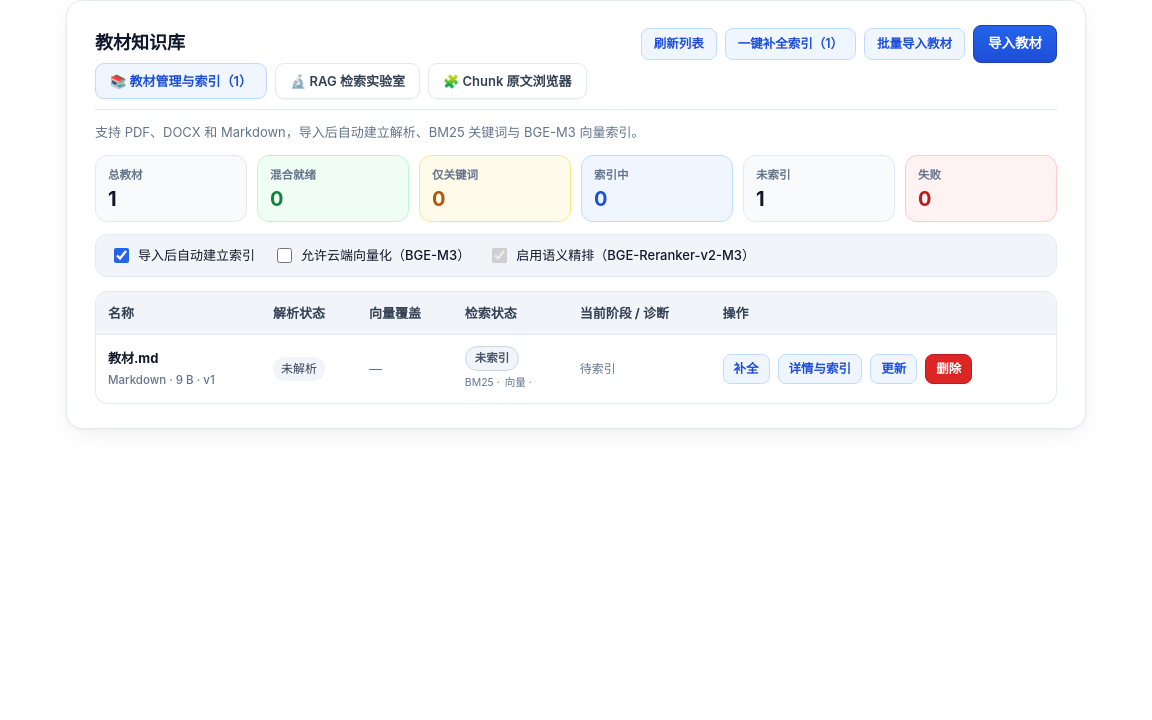
preserves rows on list and delete failures, and requires confirmation before deleting
Expected: the column heading "教材.md Markdown · 9 B · v1" is shown, [96,335,261,403]
Click the button "刷新列表".
click(679, 44)  # box [641,28,717,60]
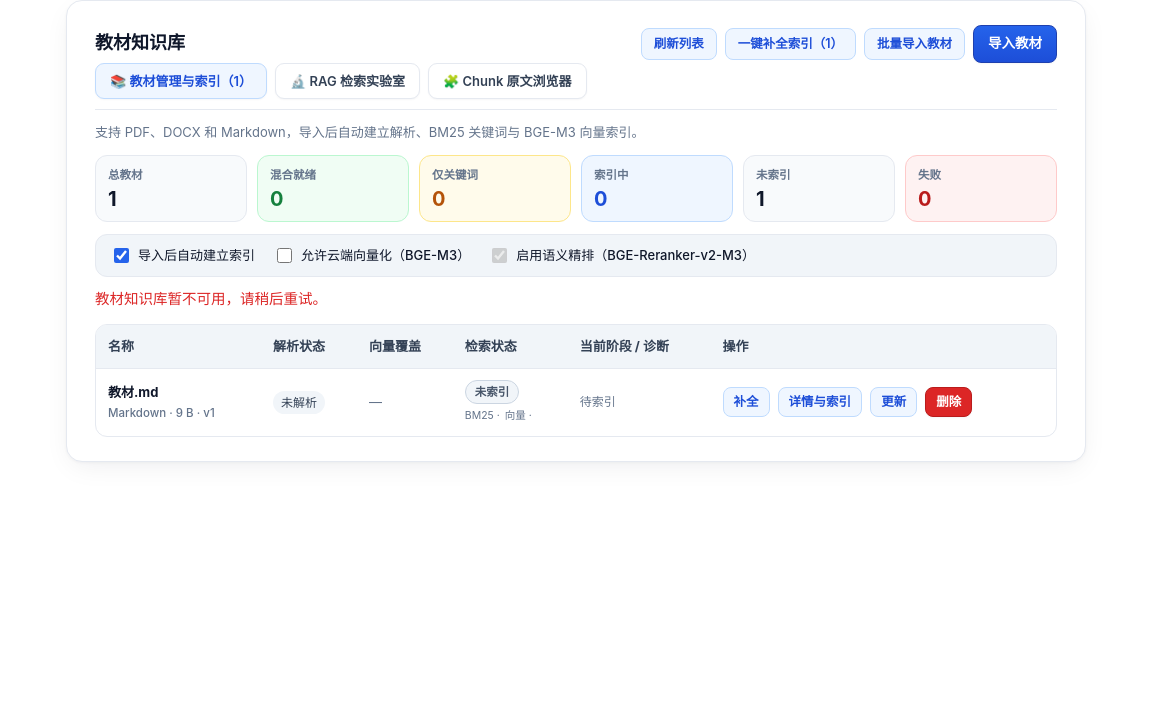
Expected: the column heading "教材.md Markdown · 9 B · v1" is shown, [96,368,261,436]
Now the message shows "教材知识库暂不可用", box [95,290,327,307]
Click the button with aria-label "删除 教材.md".
click(949, 402)  # box [925,387,972,417]
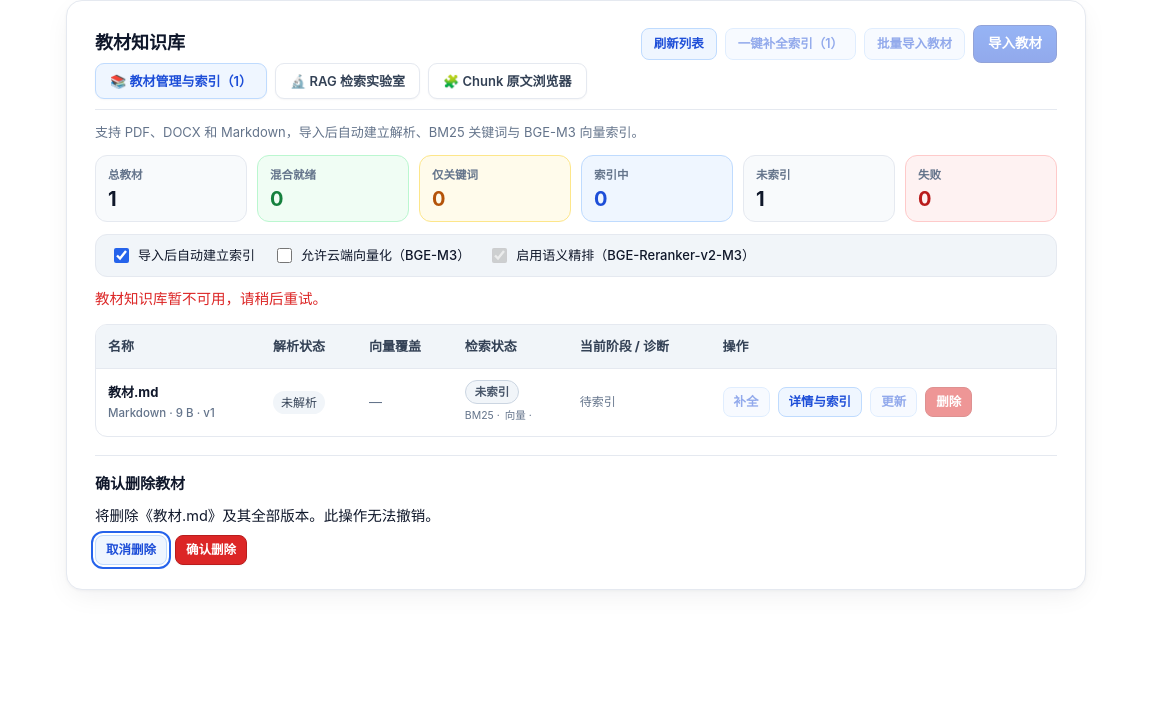
Click the button "取消删除".
click(131, 550)  # box [95,535,167,565]
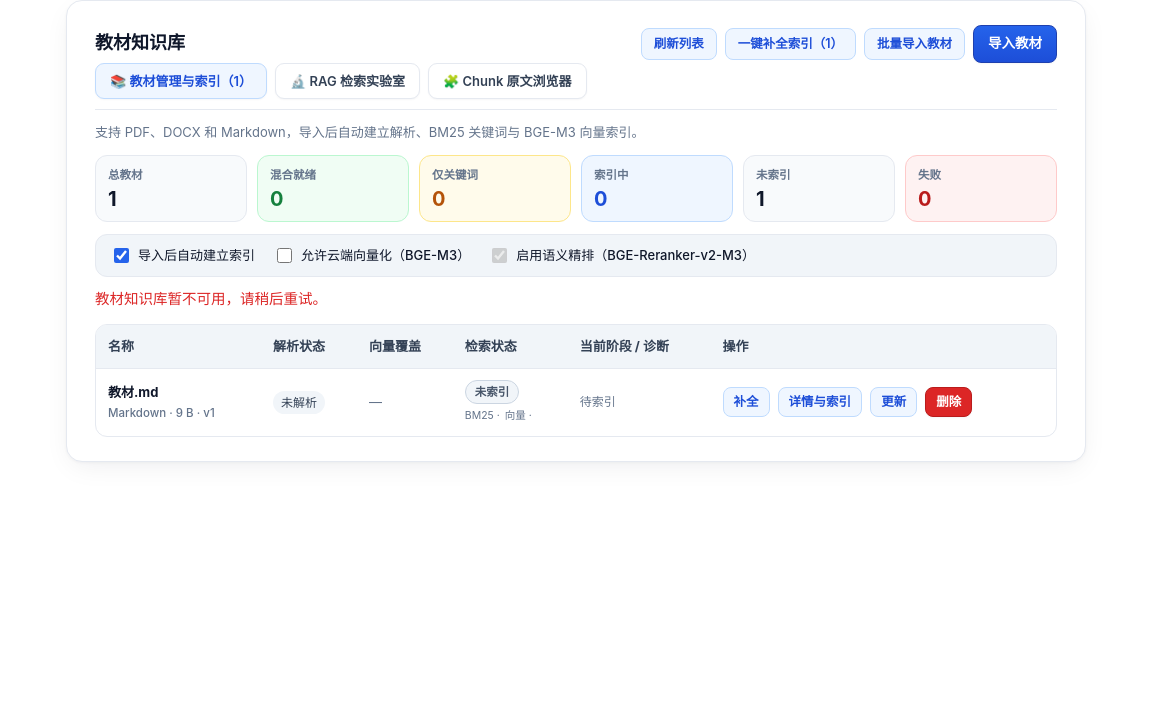
Now the heading "确认删除" is gone
Click the button with aria-label "删除 教材.md".
click(949, 402)  # box [925,387,972,417]
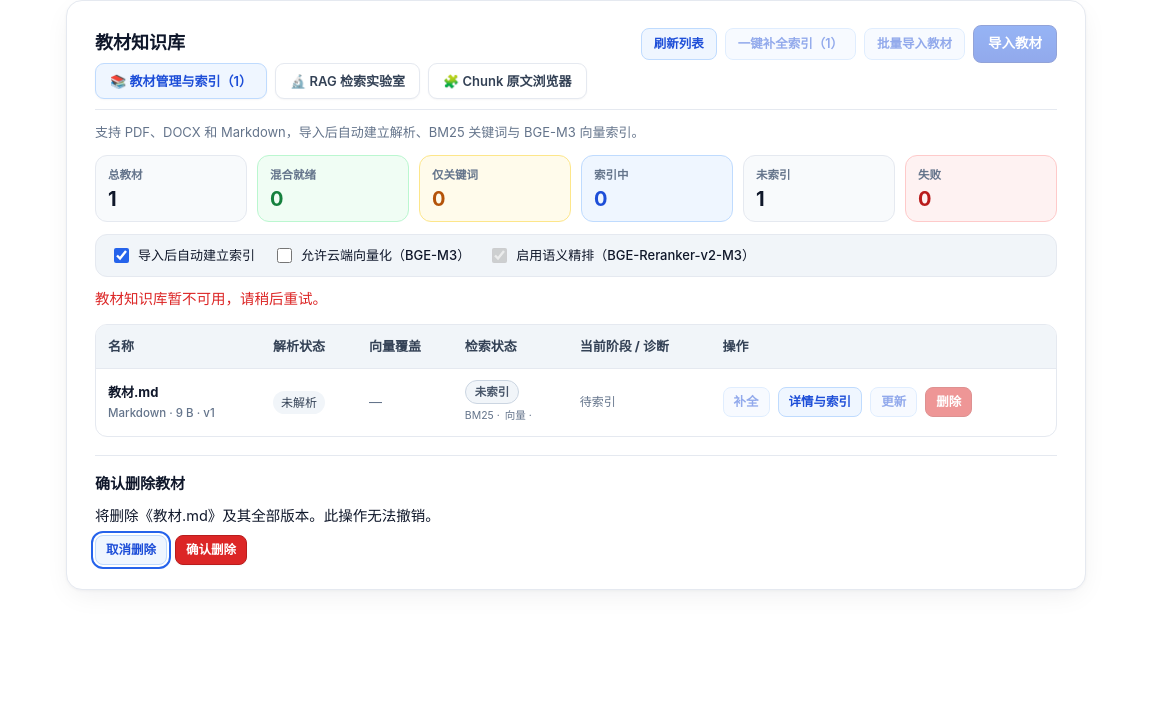
Click the button "确认删除".
click(211, 550)  # box [175,535,247,565]
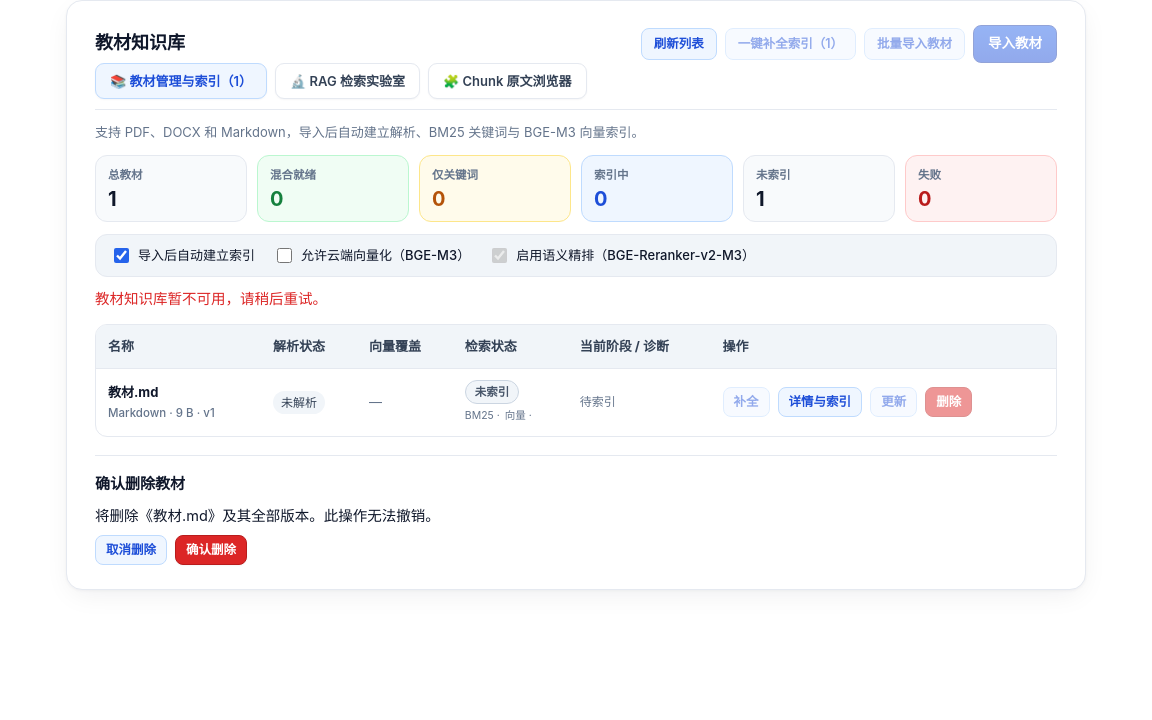
Expected: the column heading "教材.md Markdown · 9 B · v1" is shown, [96,368,261,436]
Now the button "确认删除" is enabled
Now the message shows "教材知识库暂不可用", box [95,290,327,307]
Click the button "确认删除".
click(211, 550)  # box [175,535,247,565]
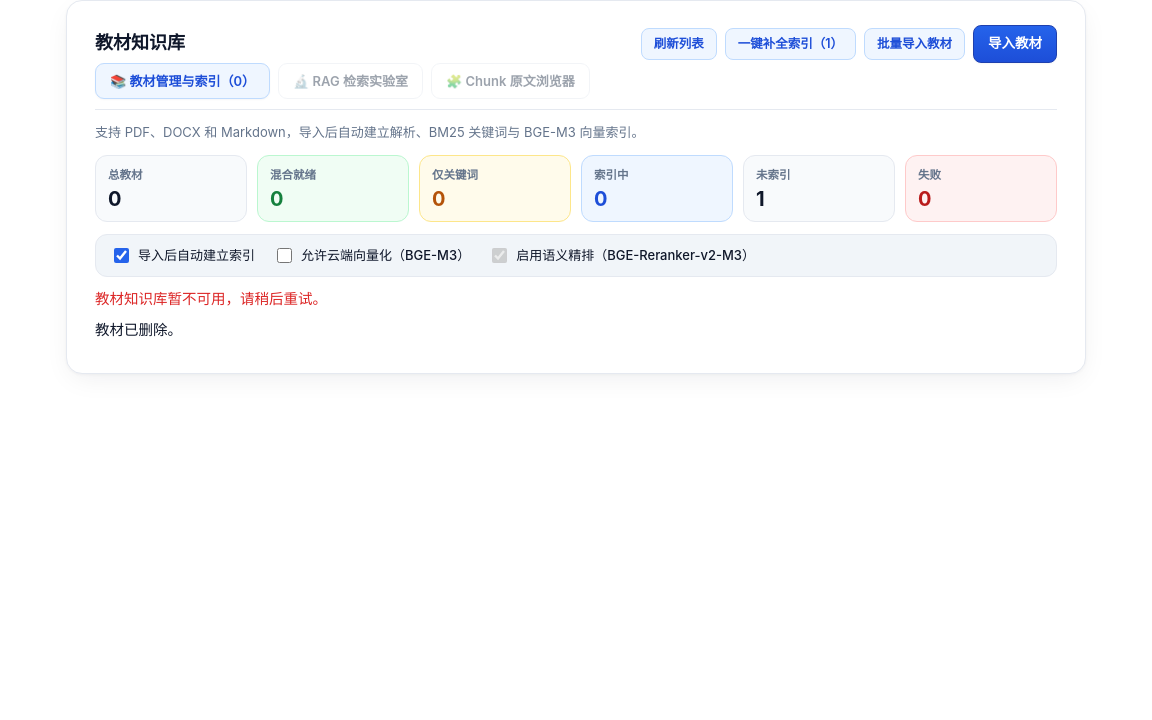
Now the text "教材已删除。" is shown, box [95,321,182,338]
Now the text "教材.md" is gone
